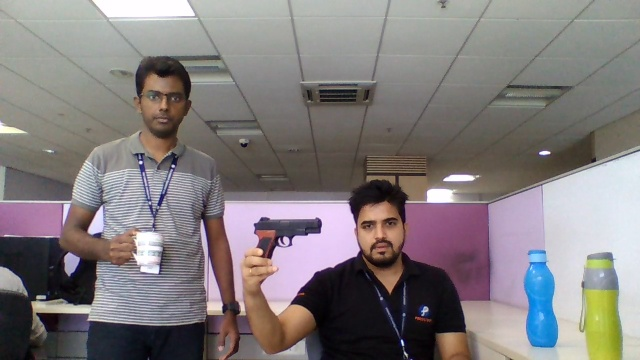gun: (249, 214, 324, 249)
